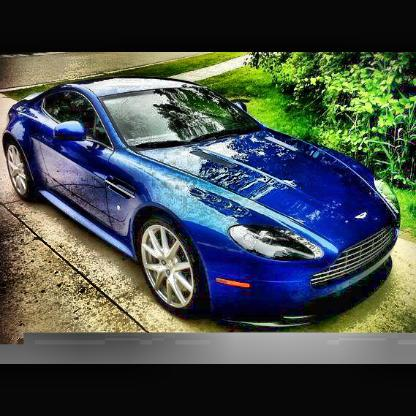Aston Martin V8 Vantage Coupe 2012: (4, 67, 409, 328)
